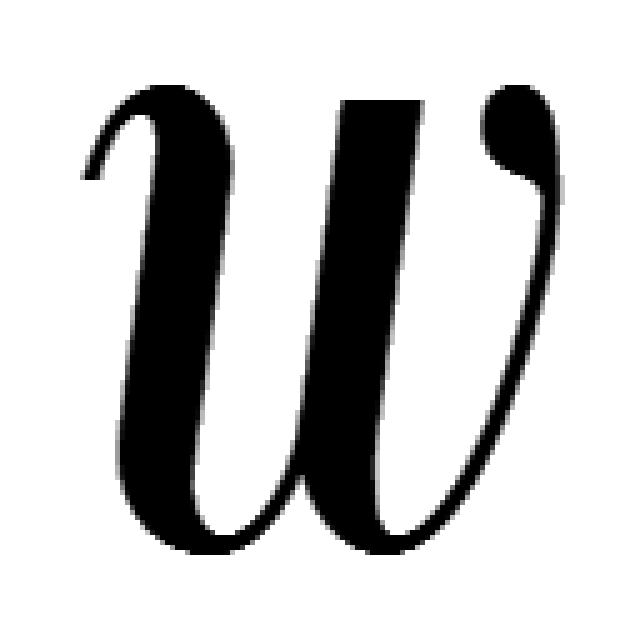W: (65, 65, 575, 560)
